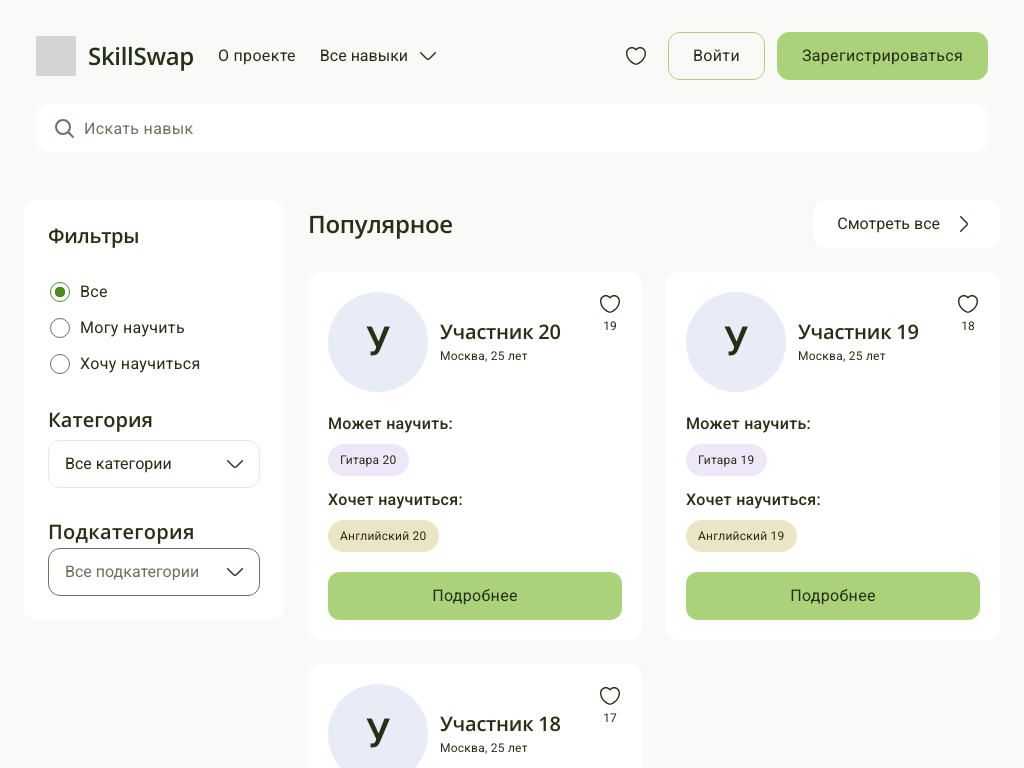
CatalogPage filters › resets page two after a category change even when the new result has two pages
The image size is (1024, 768).
Expected: the heading "Популярное" is shown, left=308, top=207, right=453, bottom=240
Click the radio button labelled "Могу научить" at (60, 328), box left=50, top=318, right=70, bottom=338
(page scrolled)
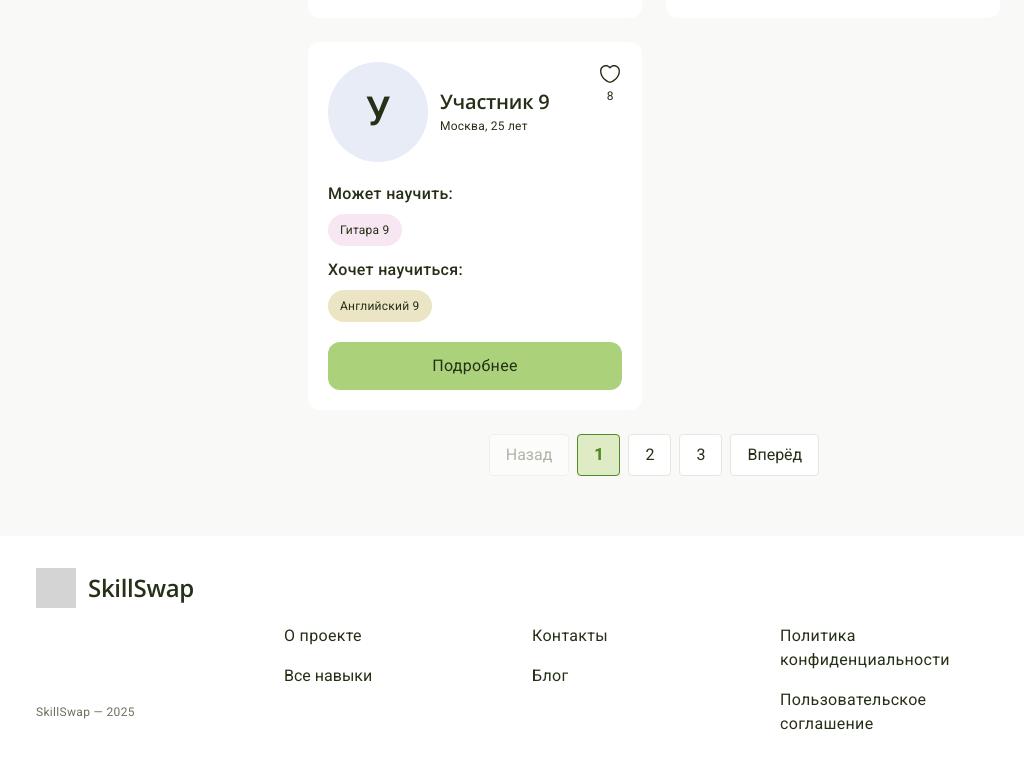
Click the button named "Страница 2" at (650, 455), box left=628, top=434, right=671, bottom=476
(page scrolled)
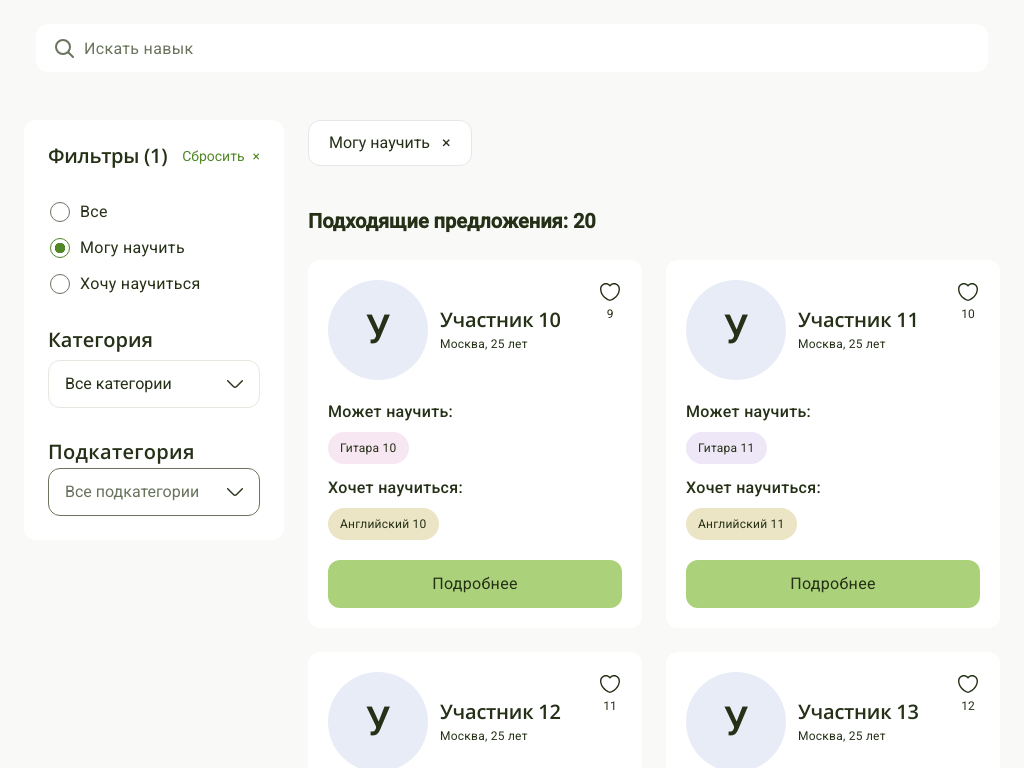
Select "Творчество и искусство" in the dropdown labelled "Категория" at (154, 384), box left=48, top=360, right=260, bottom=408
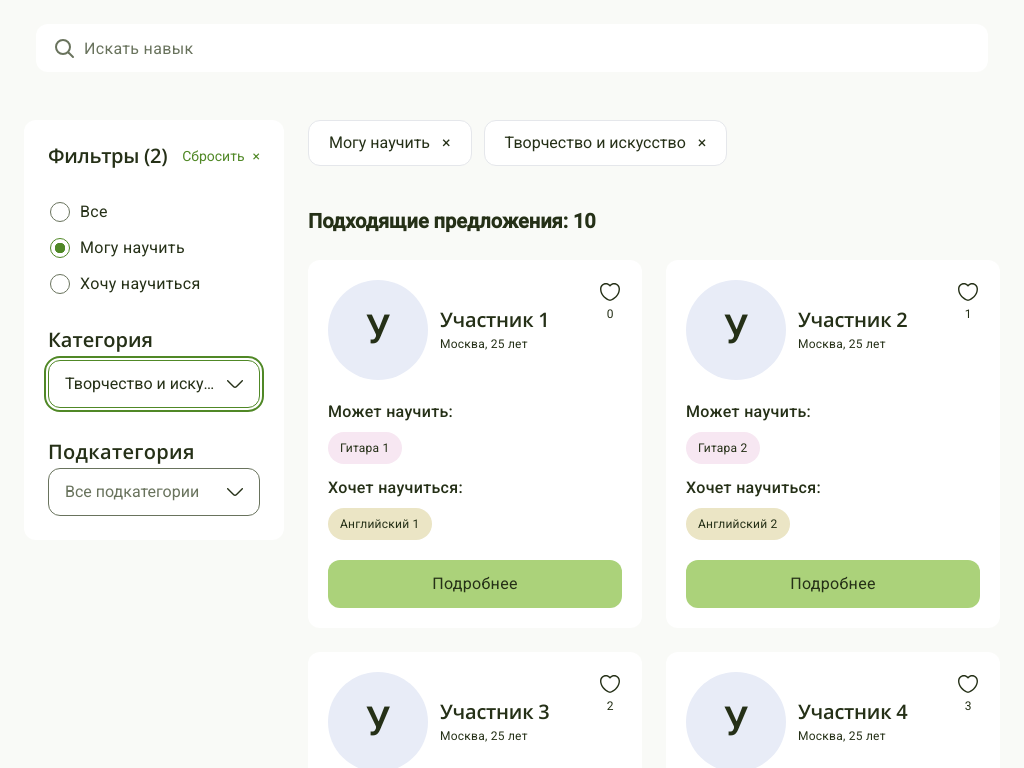
Expected: the heading "Участник 1" is shown, left=440, top=306, right=550, bottom=333
Now the text "Подходящие предложения: 10" is shown, box left=308, top=209, right=596, bottom=233
